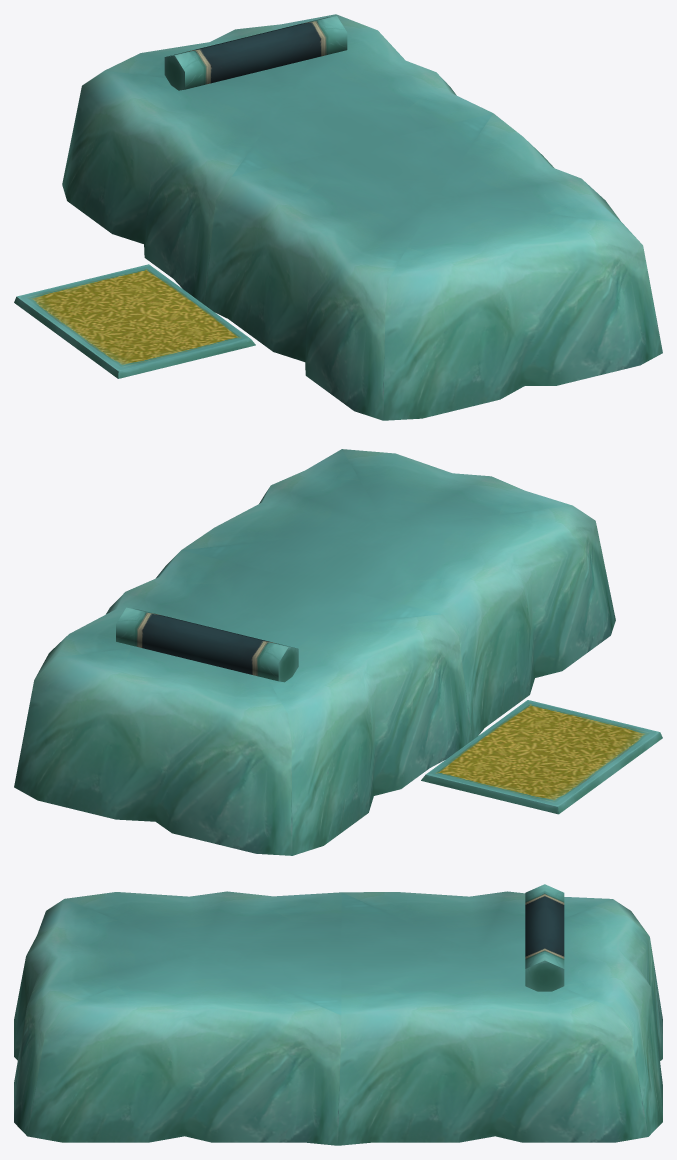
The model's file is M3_P_chuang001.FBX.
3 renders of one model, top to bottom at view 1: azimuth 30°, elevation 25°; view 2: azimuth 150°, elevation 25°; view 3: azimuth 270°, elevation 25°, orthographic. The views are drawn at different scales.
Parts seen in each view (by area): view 1: M3_P_chuang001; view 2: M3_P_chuang001; view 3: M3_P_chuang001.
Boxes of the visible parts, bbox=[...] form: M3_P_chuang001: bbox=[14, 14, 662, 420]; M3_P_chuang001: bbox=[14, 449, 662, 855]; M3_P_chuang001: bbox=[14, 884, 662, 1145].
Size of the model in its own units: 311 by 101 by 398.
